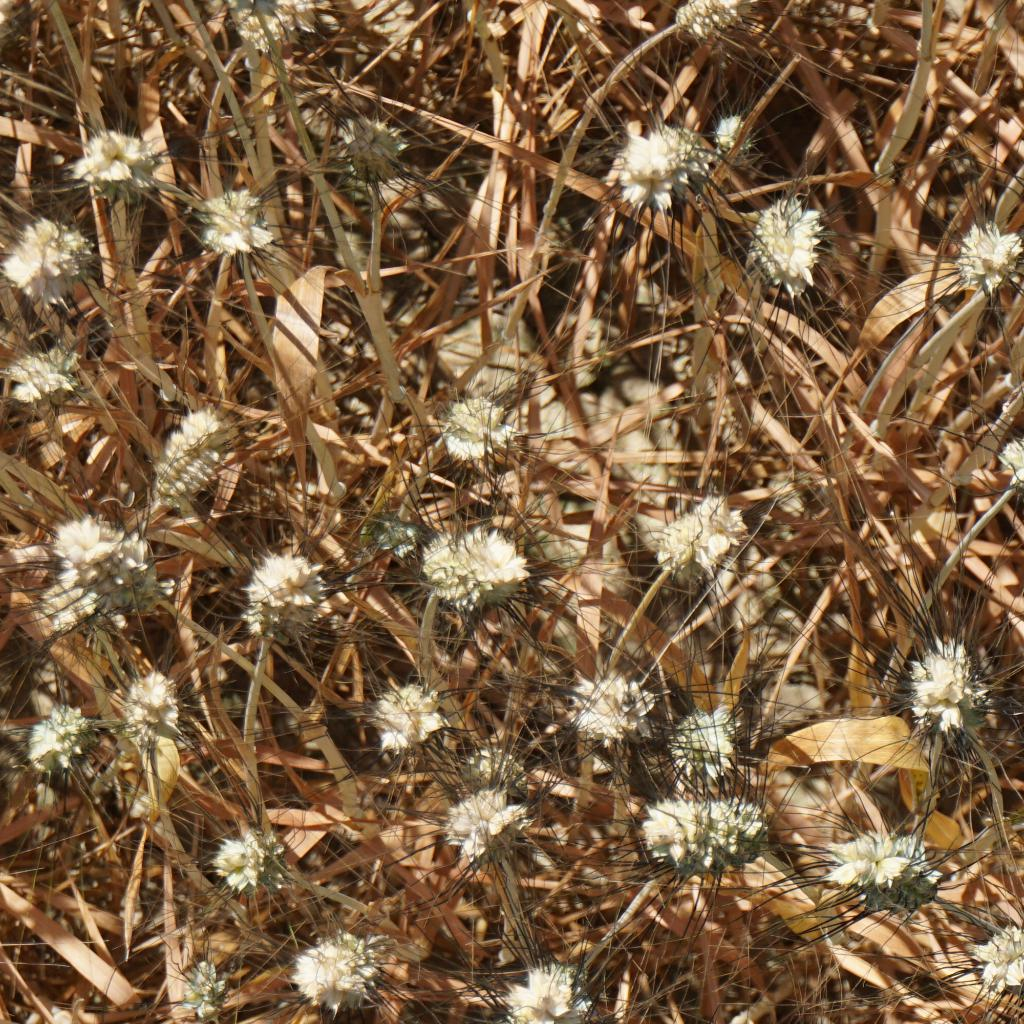0-0: (417, 516, 535, 606), (232, 539, 330, 647), (47, 512, 163, 602), (630, 795, 765, 872), (135, 390, 236, 492), (738, 188, 835, 293), (811, 815, 925, 903), (898, 633, 988, 744), (608, 100, 709, 197), (327, 102, 431, 193), (185, 173, 283, 269), (11, 200, 98, 307), (649, 502, 756, 586), (555, 657, 651, 746), (502, 947, 604, 1024), (439, 381, 523, 474), (297, 921, 381, 1008), (356, 667, 439, 752), (435, 779, 529, 852), (102, 659, 186, 736), (67, 112, 157, 183), (0, 318, 78, 397), (949, 214, 1024, 295), (19, 695, 92, 775), (204, 0, 328, 47), (202, 819, 279, 893), (649, 0, 778, 44), (665, 697, 740, 770), (711, 87, 771, 174), (976, 900, 1024, 1002), (171, 954, 238, 1024), (361, 494, 420, 568), (464, 732, 535, 781), (1002, 421, 1024, 494)
